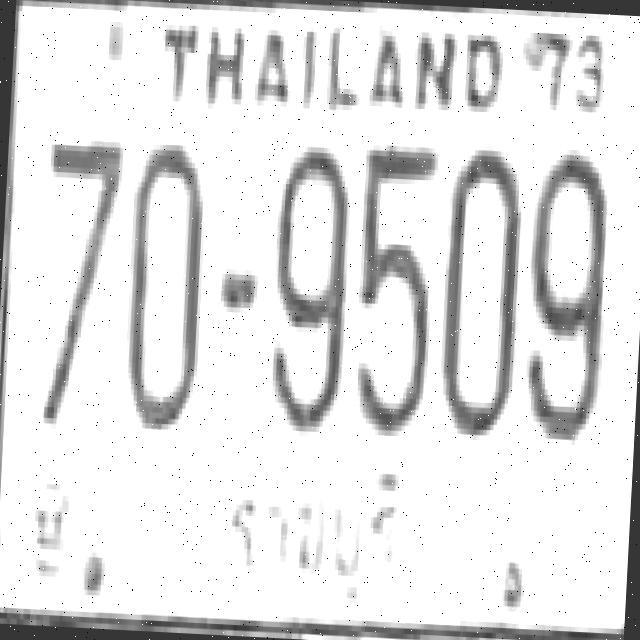0: (118, 138, 210, 432), (434, 143, 525, 437)
5: (349, 138, 436, 432)
7: (32, 130, 123, 429), (37, 134, 124, 366)
9: (520, 142, 610, 442), (264, 140, 350, 428)
Ratchaburi: (208, 451, 412, 621)
